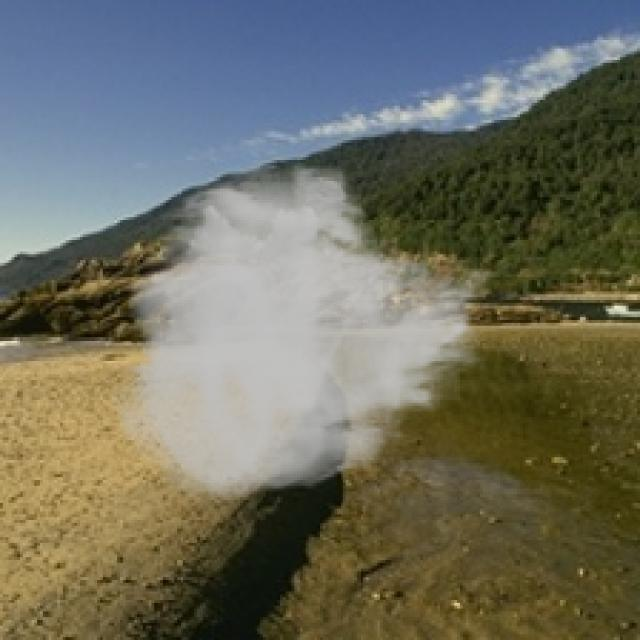smoke: (109, 160, 497, 506)
